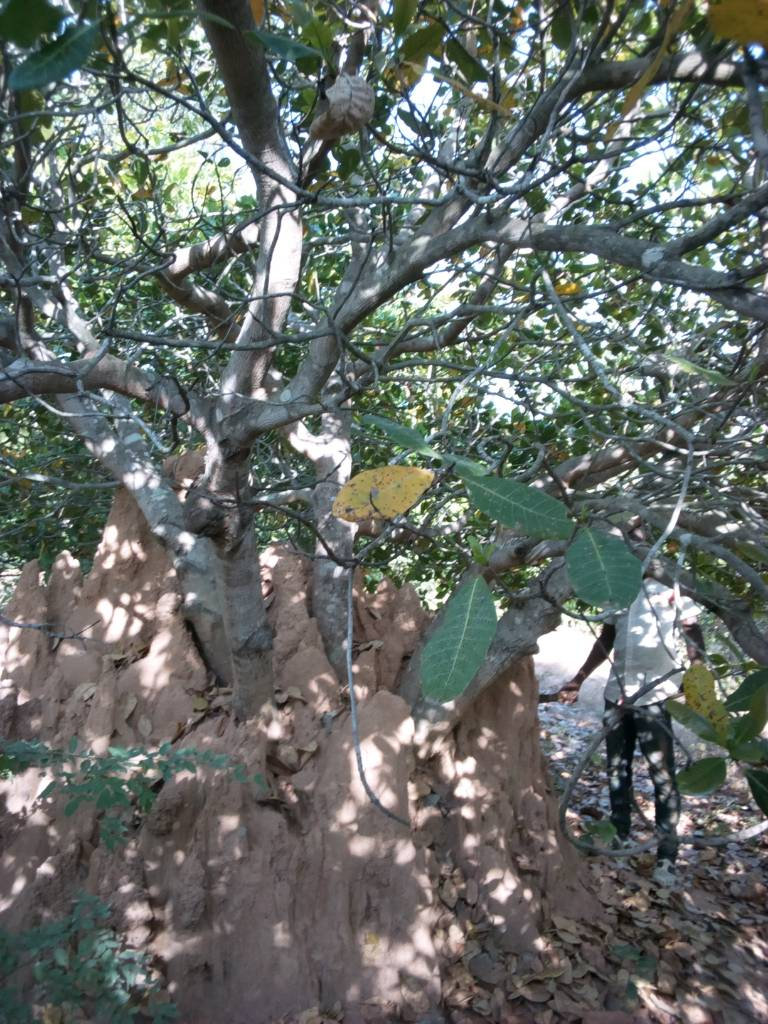Virose: (13, 449, 638, 1021)
